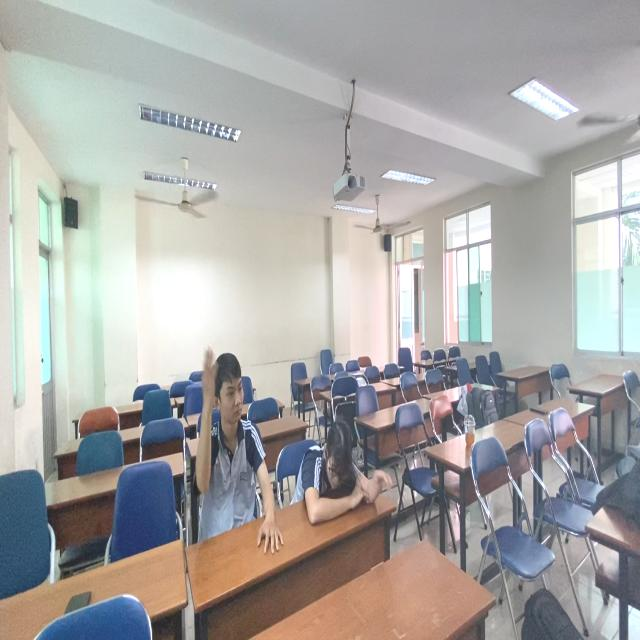raise_hand: (194, 340, 283, 557)
sleep: (283, 420, 387, 519)
